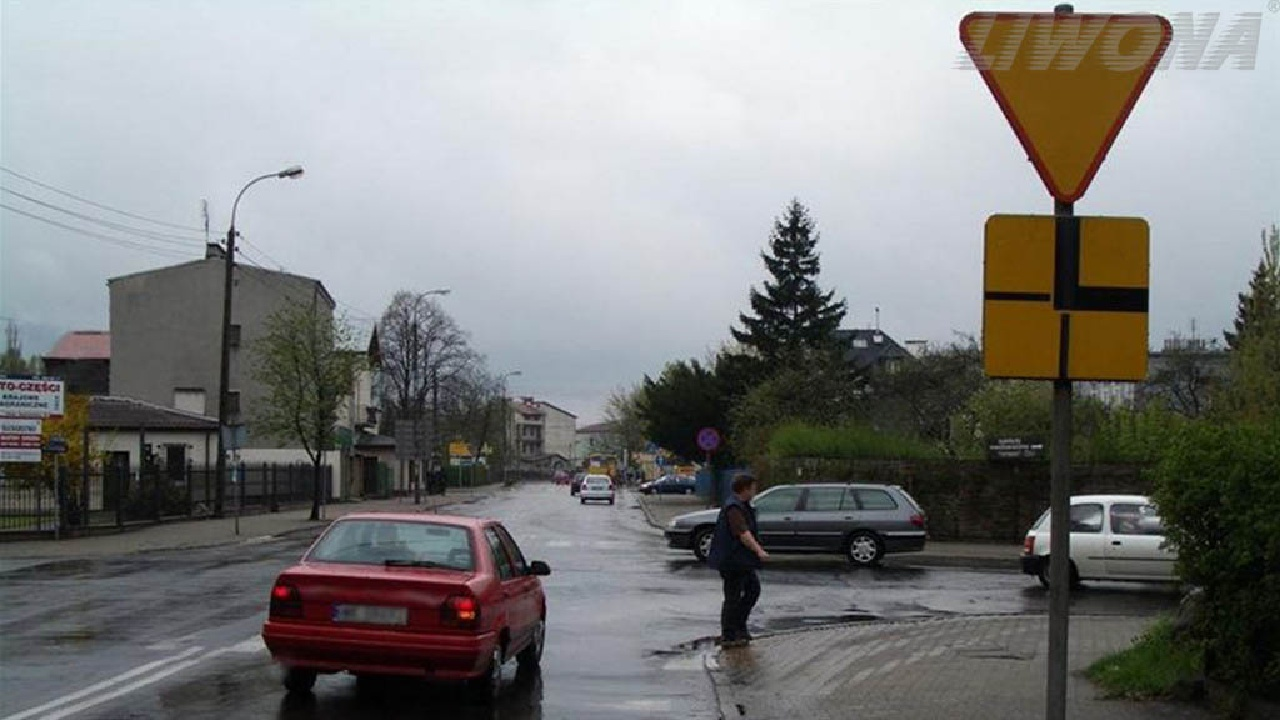A7: (956, 10, 1175, 208)
